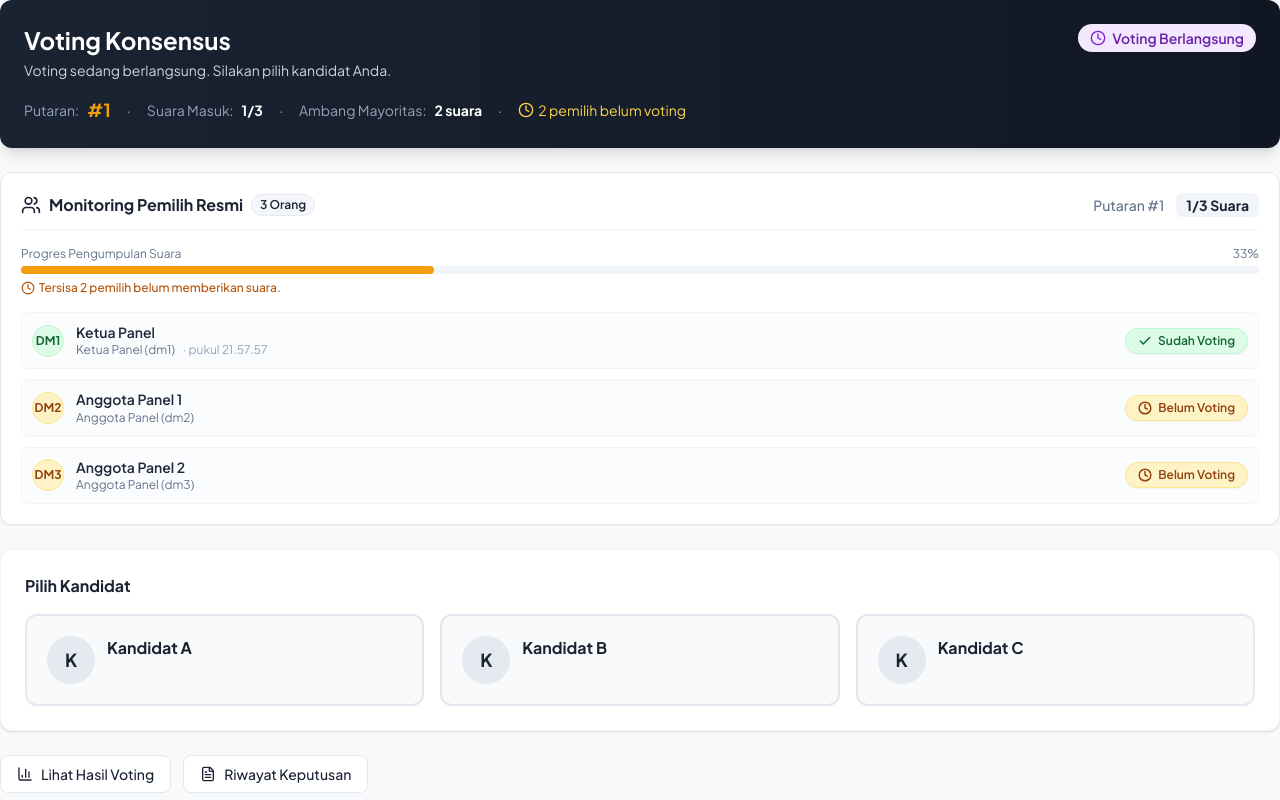
Scenario: Voting Sync — Cross-Page, Refresh, Round Change, No Duplicate › 2. Setelah dm3 vote: invalidateQueries dipanggil, status refetch → 3/3, monitor update
The width and height of the screenshot is (1280, 800).
Expected: the text with test id "electorate-monitor-fraction" reads "1/3 Suara", [1176,193,1259,217]
Expected: the element with test id "monitor-not-voted-dm2" is shown, [1125,395,1248,421]
Click the button "K Kandidat C" at coordinates (902, 660), box [856,614,1255,706]
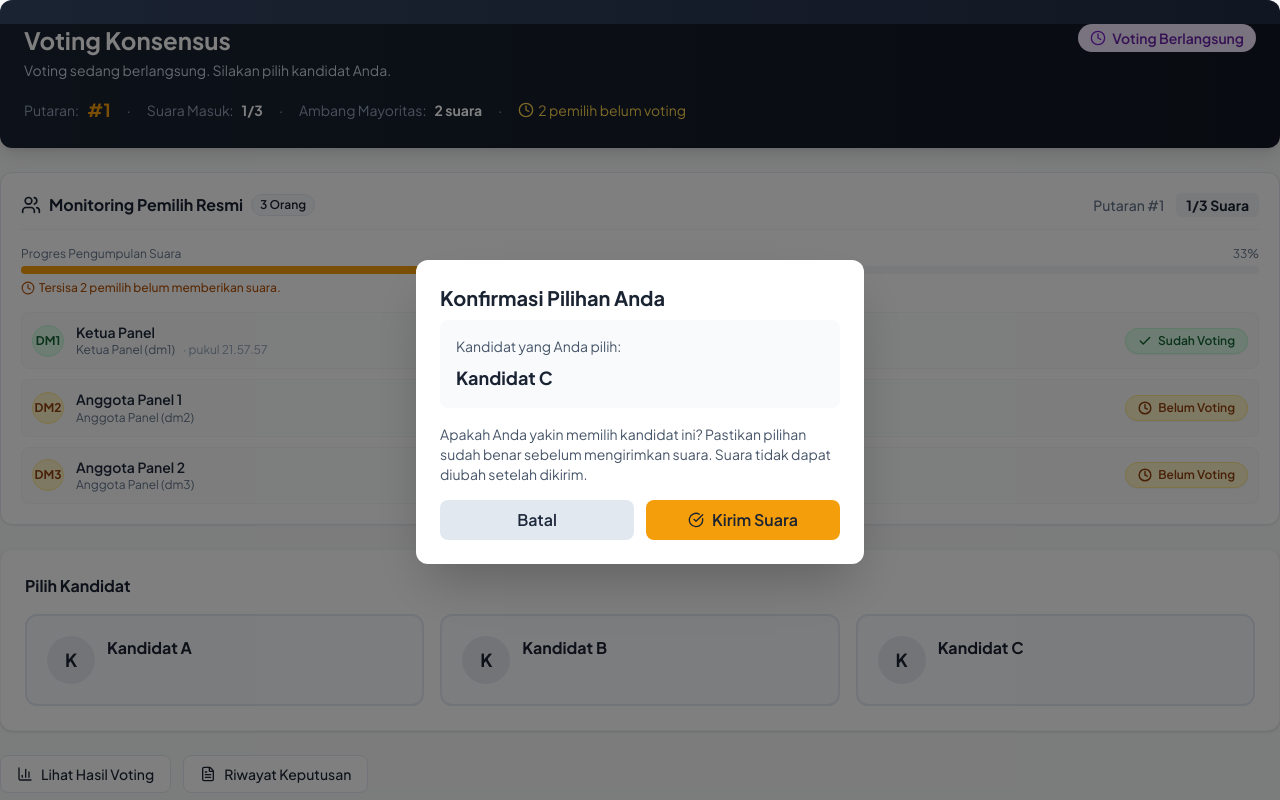
Click the button "Kirim Suara" at coordinates (743, 520), box [646,500,840,540]
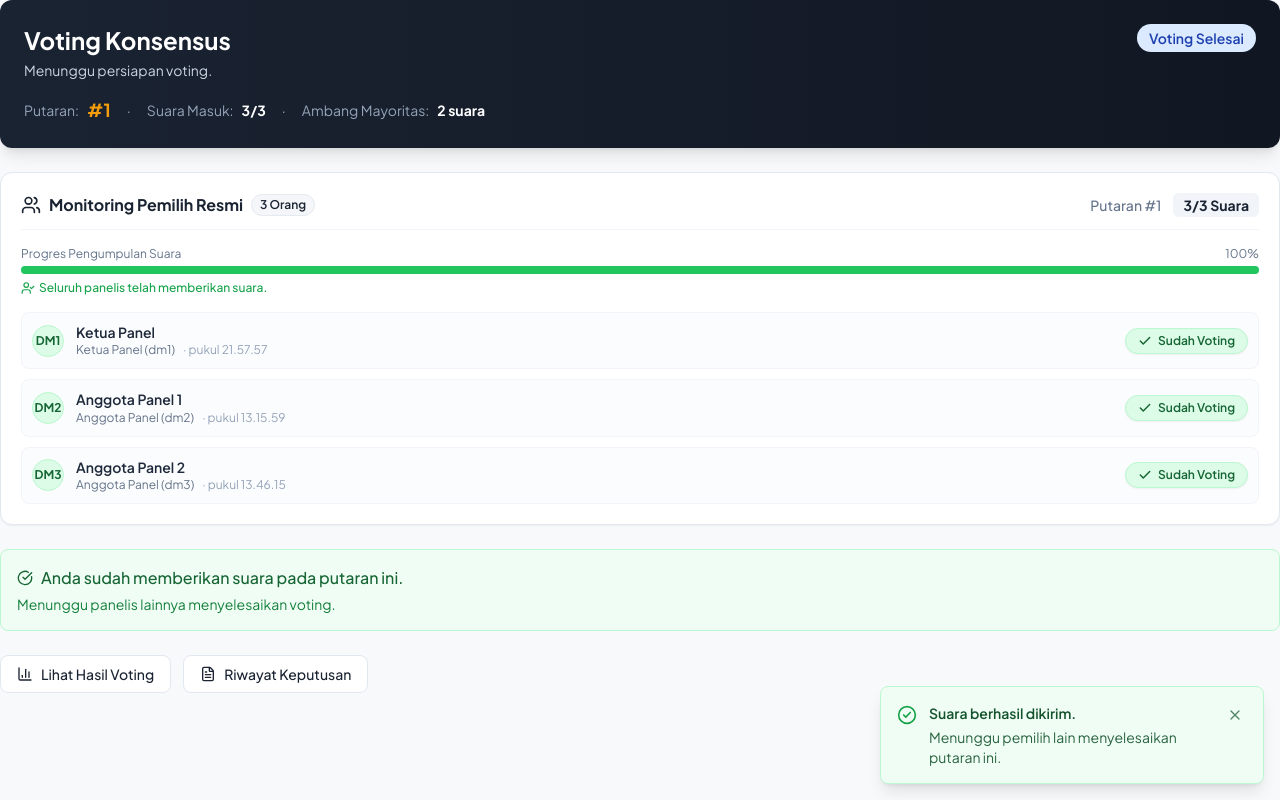
Expected: the text "Suara berhasil dikirim." is shown, [929,704,1076,722]
Expected: the text with test id "electorate-monitor-fraction" reads "3/3 Suara", [1174,193,1259,217]
Expected: the element with test id "monitor-voted-dm2" reads "Sudah Voting", [1158,400,1235,415]
